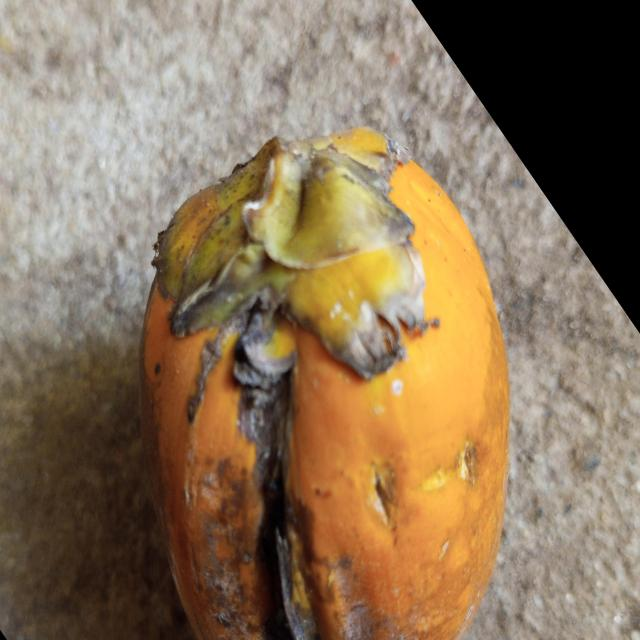damaged: (141, 129, 511, 640)
